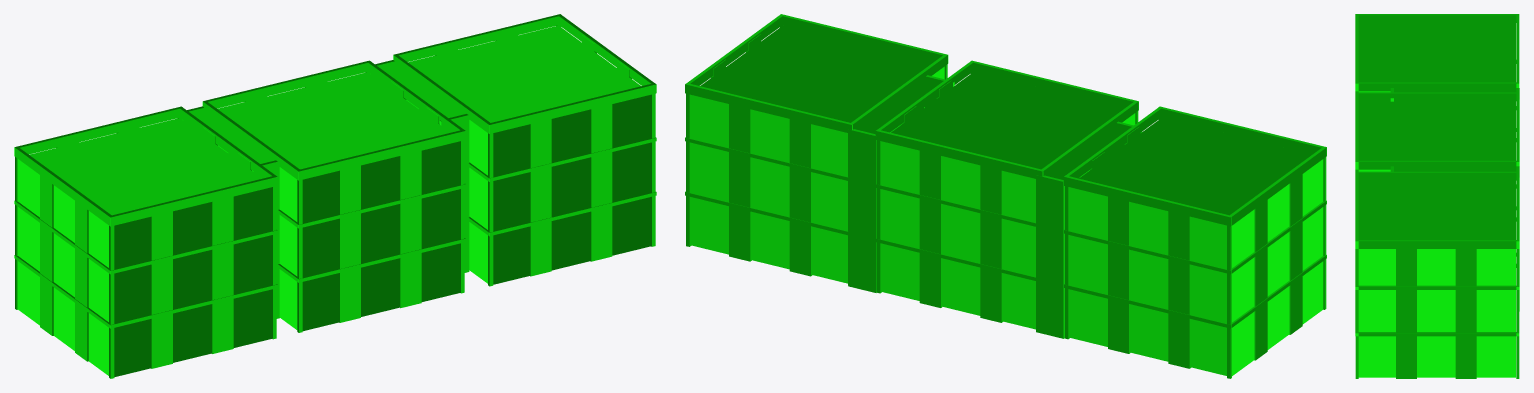
File: TownHouse_M_V1_Raghu.fbx
3 renders of one model, left to right at view 1: azimuth 30°, elevation 25°; view 2: azimuth 150°, elevation 25°; view 3: azimuth 270°, elevation 25°, orthographic. The views are drawn at different scales.
Parts seen in each view (by area): view 1: smallBuilding_M_v1_raghu_low; view 2: smallBuilding_M_v1_raghu_low; view 3: smallBuilding_M_v1_raghu_low.
Boxes of the visible parts, <box> form: smallBuilding_M_v1_raghu_low: <box>14,14,656,378</box>; smallBuilding_M_v1_raghu_low: <box>685,14,1326,378</box>; smallBuilding_M_v1_raghu_low: <box>1355,14,1519,378</box>.
Size of the model in its own units: 3377 by 958 by 1031.
